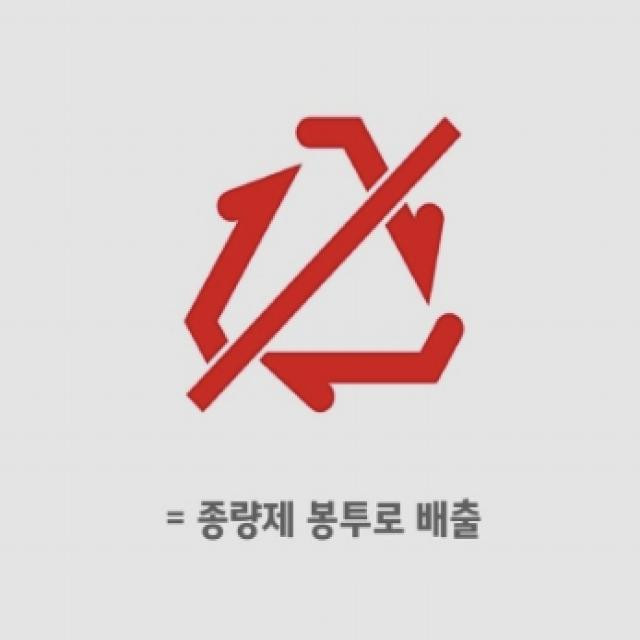NoRecycle: (162, 91, 488, 422)
